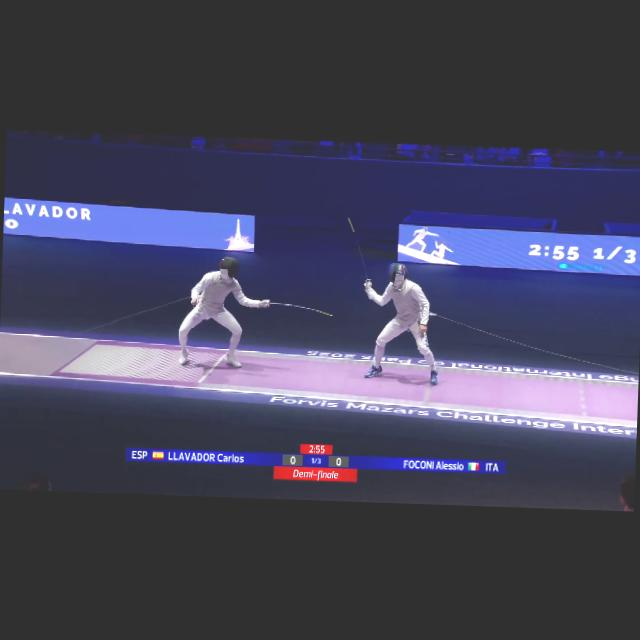blade: (341, 216, 378, 290), (259, 296, 336, 322)
